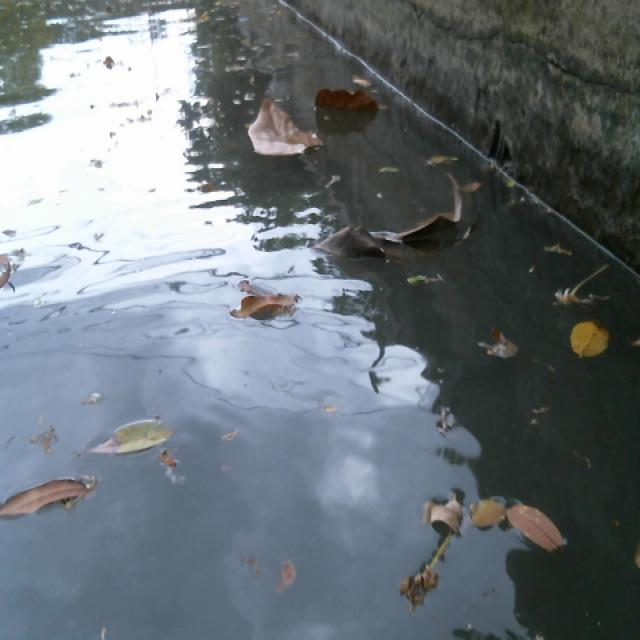Big-leaf: (305, 169, 481, 262), (242, 95, 328, 162), (215, 280, 305, 336), (304, 83, 384, 120)
Small-leaf: (75, 398, 172, 471), (7, 467, 92, 535), (505, 497, 576, 564), (464, 485, 509, 531), (558, 313, 603, 358), (482, 324, 523, 363), (265, 546, 298, 594), (352, 68, 393, 102), (423, 143, 474, 169), (405, 262, 442, 294), (377, 159, 412, 189), (145, 444, 173, 481), (542, 241, 578, 266), (506, 179, 522, 192)
